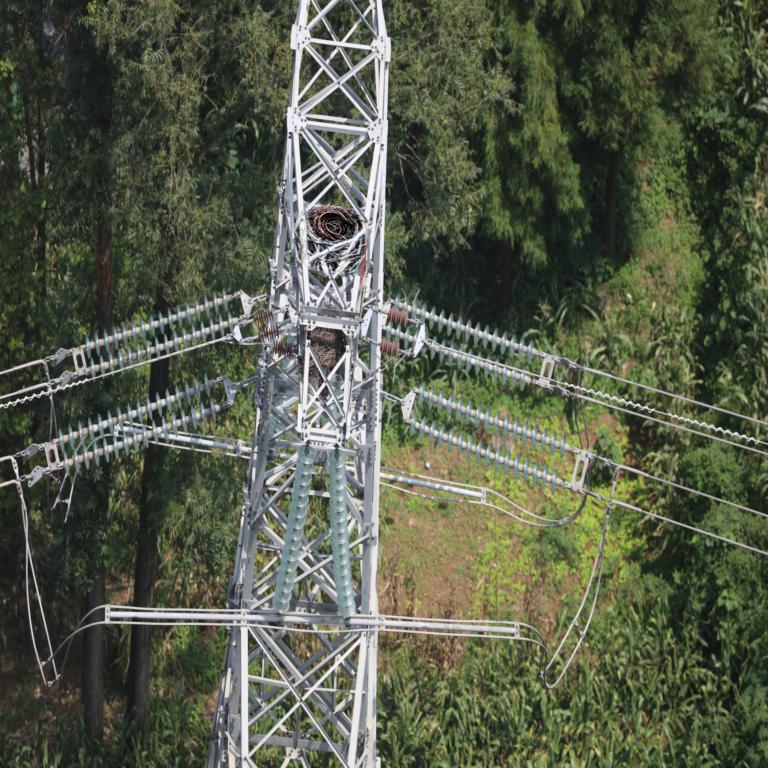nest: (308, 204, 361, 250), (306, 325, 345, 375)
